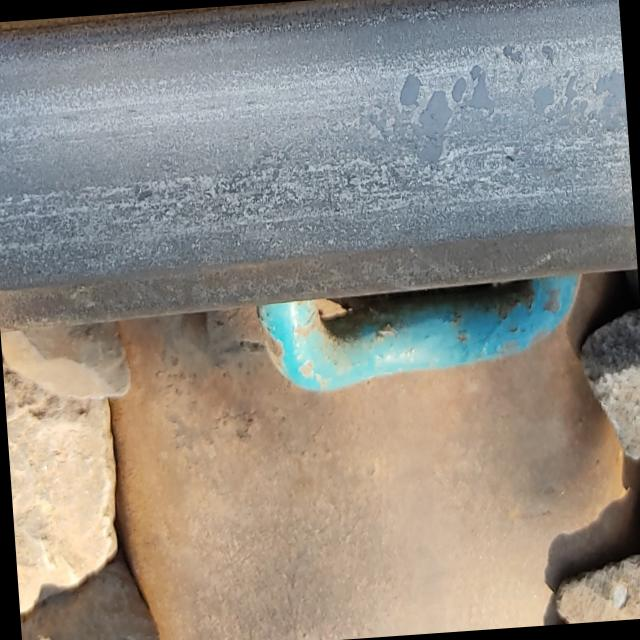track_bolt: (250, 270, 598, 402)
